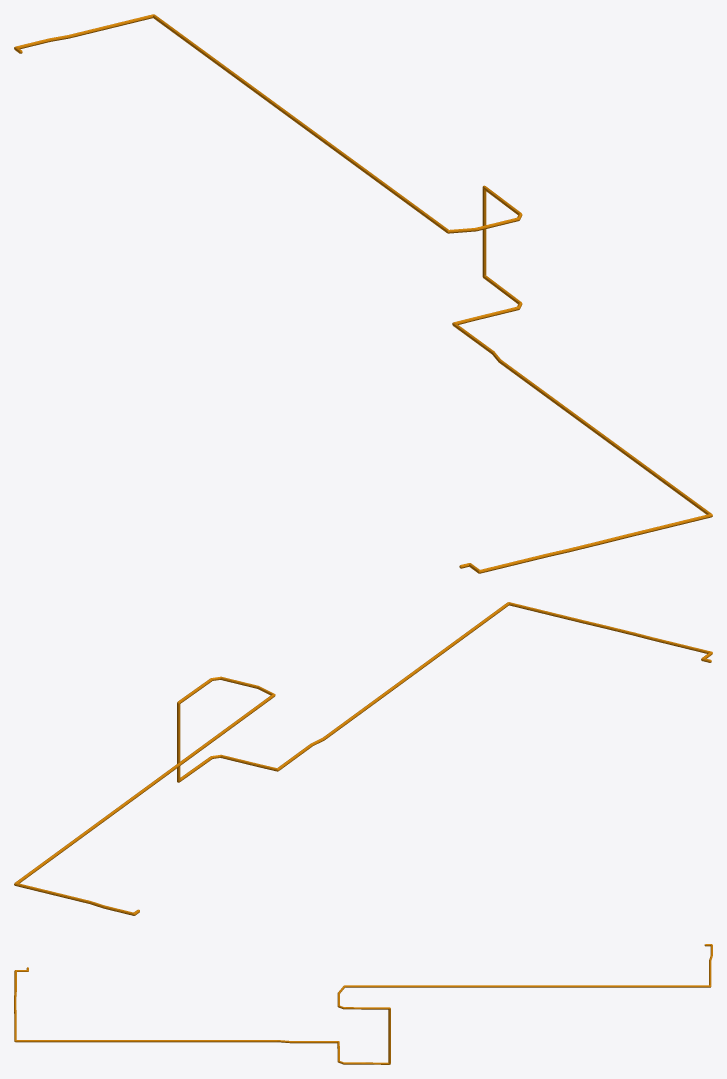
The picture shows the model from 3 angles, top to bottom: view 1: azimuth 30°, elevation 25°; view 2: azimuth 150°, elevation 25°; view 3: azimuth 270°, elevation 25°; orthographic projection. The views are drawn at different scales.
Bounding box in the file's own units: 1870 × 520 × 5736.
